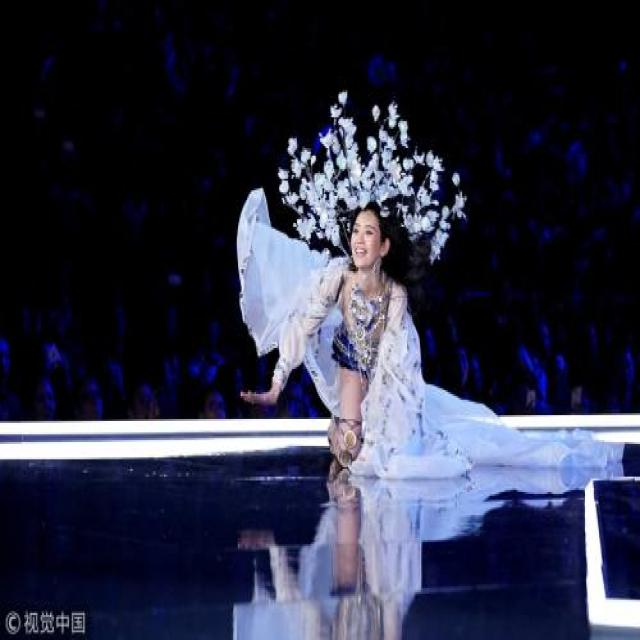down: (233, 192, 434, 475)
